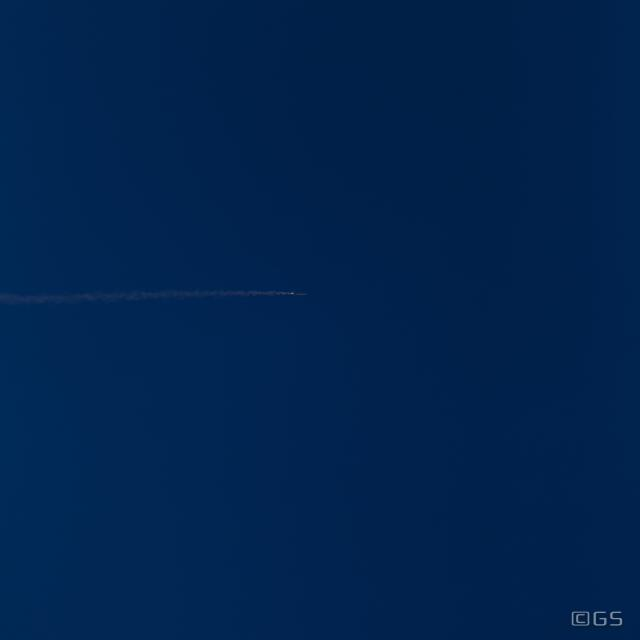Rocket: (290, 290, 308, 296)
